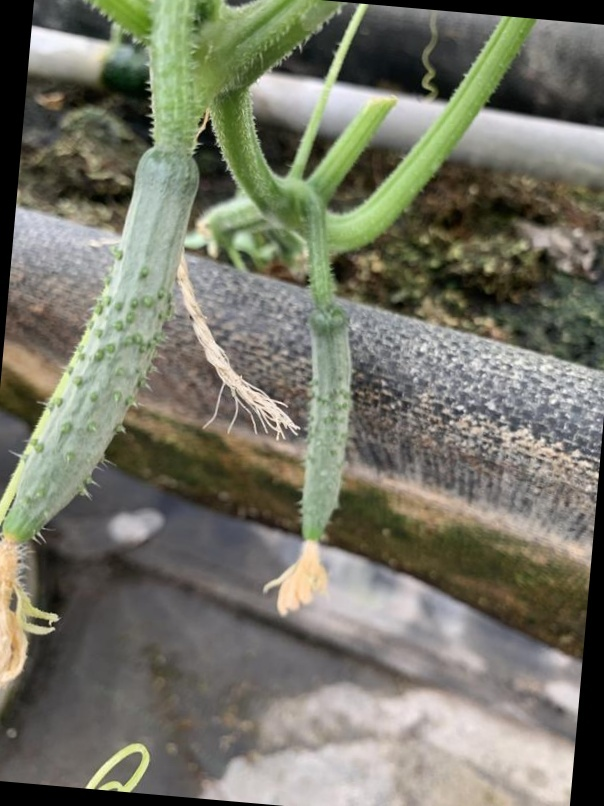bear: (266, 307, 364, 598)
growth: (2, 145, 207, 565)
